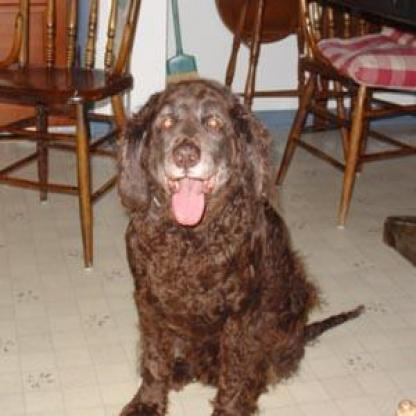Irish_water_spaniel: (111, 75, 365, 413)
